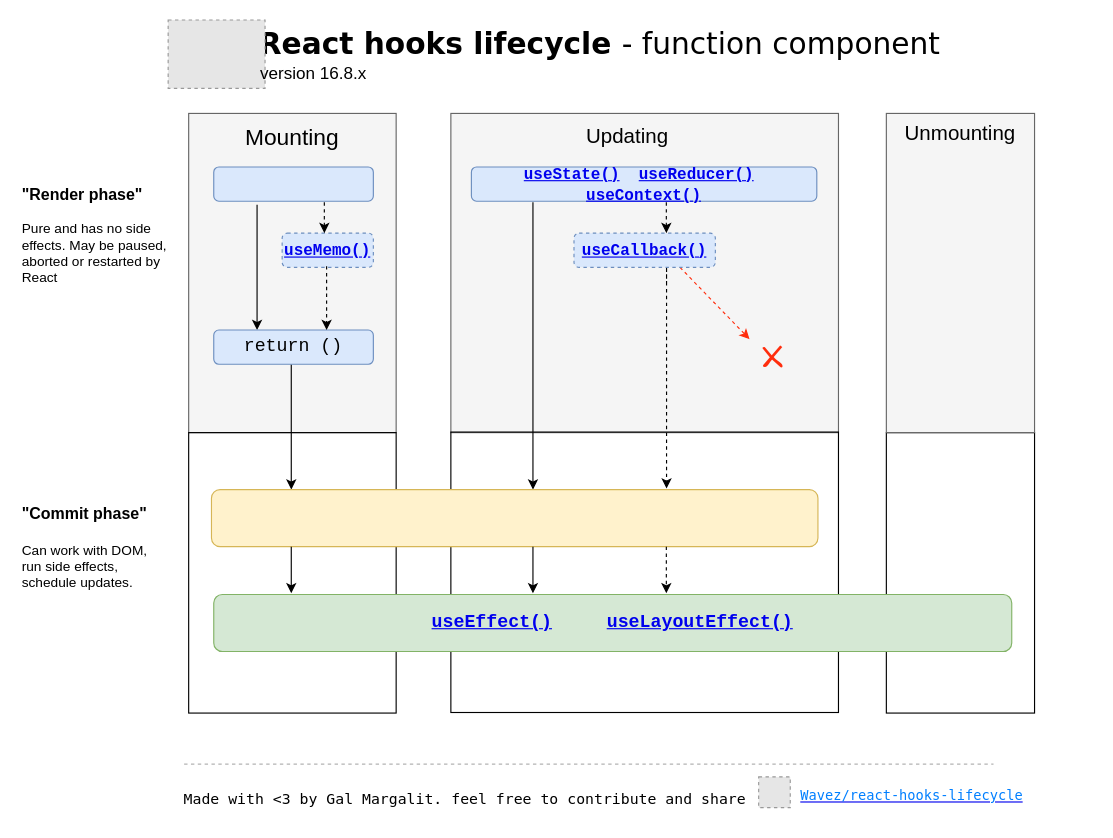
This 1113x838 diagram has some shape labels left out. Grey dashed boxes stand in for pictures. The shapes that lost their labels are listed below. From the top down, each one's centre as x and y in pixels, then its label:
the point at 293,183: function () {}
the point at 514,517: React updates DOM and refs
